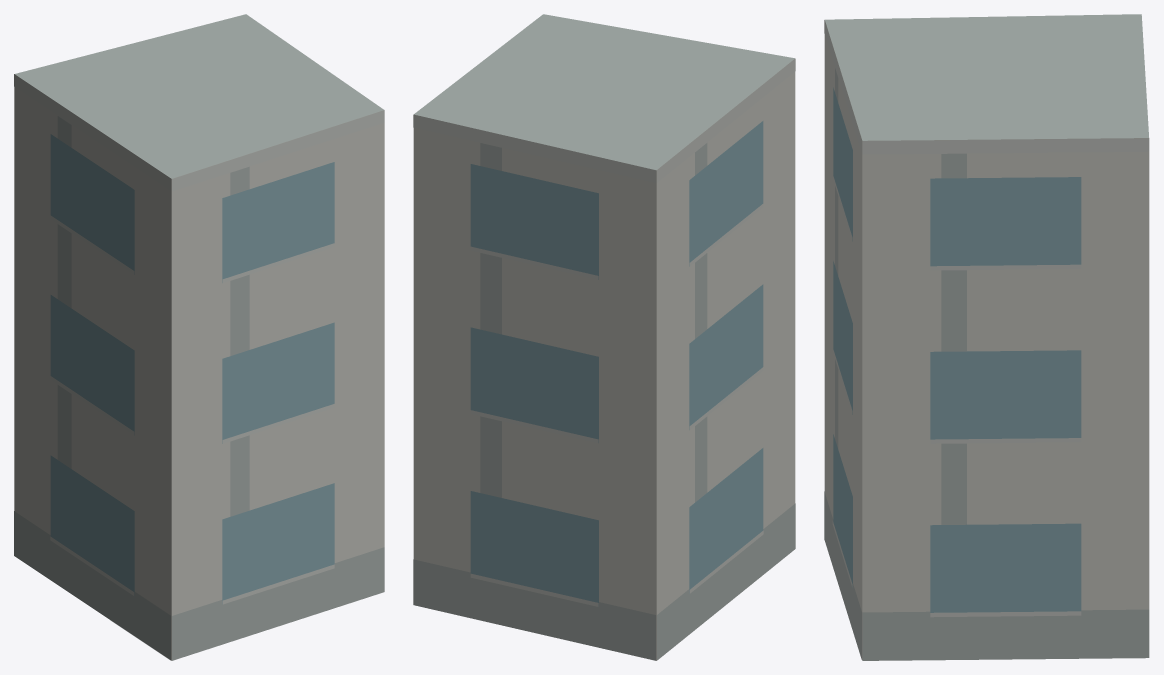
The model's file is survey-upis-32633950.glb.
The picture shows the model from 3 angles, left to right: view 1: azimuth 30°, elevation 25°; view 2: azimuth 150°, elevation 25°; view 3: azimuth 270°, elevation 25°; orthographic projection. The views are drawn at different scales.
Parts seen in each view (by area): view 1: survey-upis-32633950.tmp; view 2: survey-upis-32633950.tmp; view 3: survey-upis-32633950.tmp.
Boxes of the visible parts, bbox=[...] form: survey-upis-32633950.tmp: bbox=[14, 14, 384, 660]; survey-upis-32633950.tmp: bbox=[413, 14, 795, 660]; survey-upis-32633950.tmp: bbox=[824, 14, 1149, 660].
Size of the model in its own units: 4.79 by 9.15 by 5.19.
